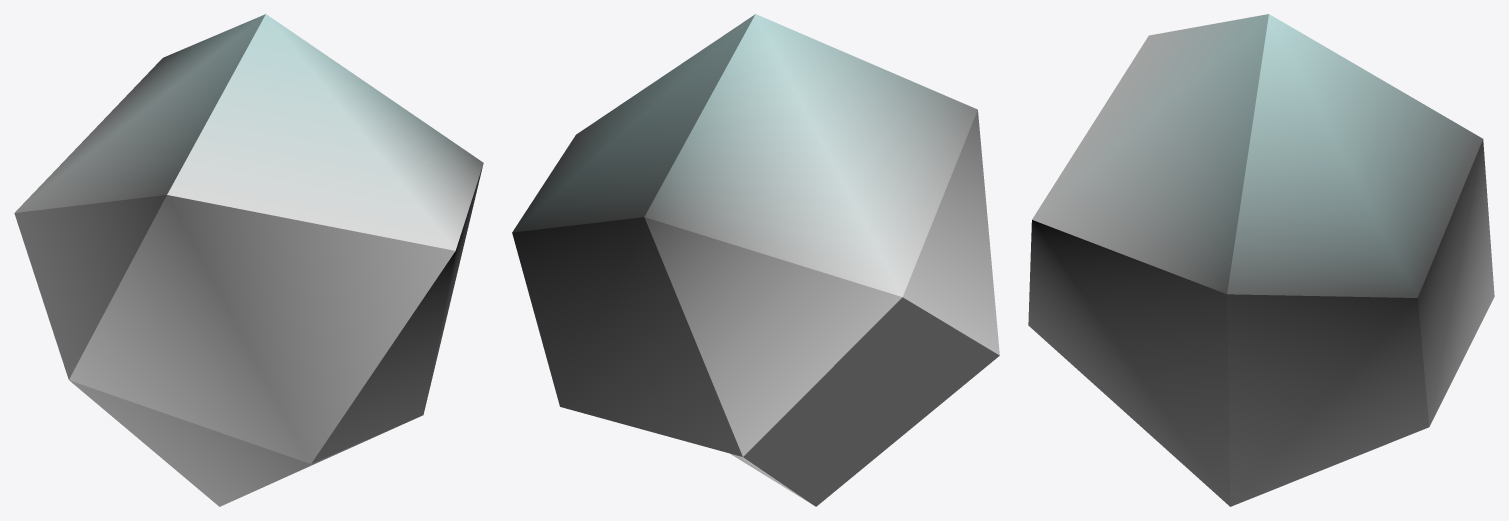
Rendered from ballish_collision.glb.
3 views of the same model, side by side, from view 1: azimuth 30°, elevation 25°; view 2: azimuth 150°, elevation 25°; view 3: azimuth 270°, elevation 25° (orthographic).
Visible parts, largest first — view 1: SuzanneCollision; view 2: SuzanneCollision; view 3: SuzanneCollision.
Boxes of the visible parts, left/top/right/bottom form: SuzanneCollision: left=14, top=14, right=483, bottom=506; SuzanneCollision: left=512, top=14, right=999, bottom=506; SuzanneCollision: left=1028, top=14, right=1494, bottom=506.
Bounding box in the file's own units: 0.2477 × 0.2709 × 0.2386.
